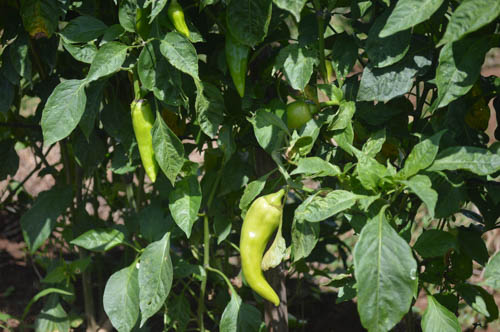ChiliPepper: (238, 195, 283, 308), (130, 102, 160, 179), (225, 32, 249, 95), (169, 6, 187, 37)
